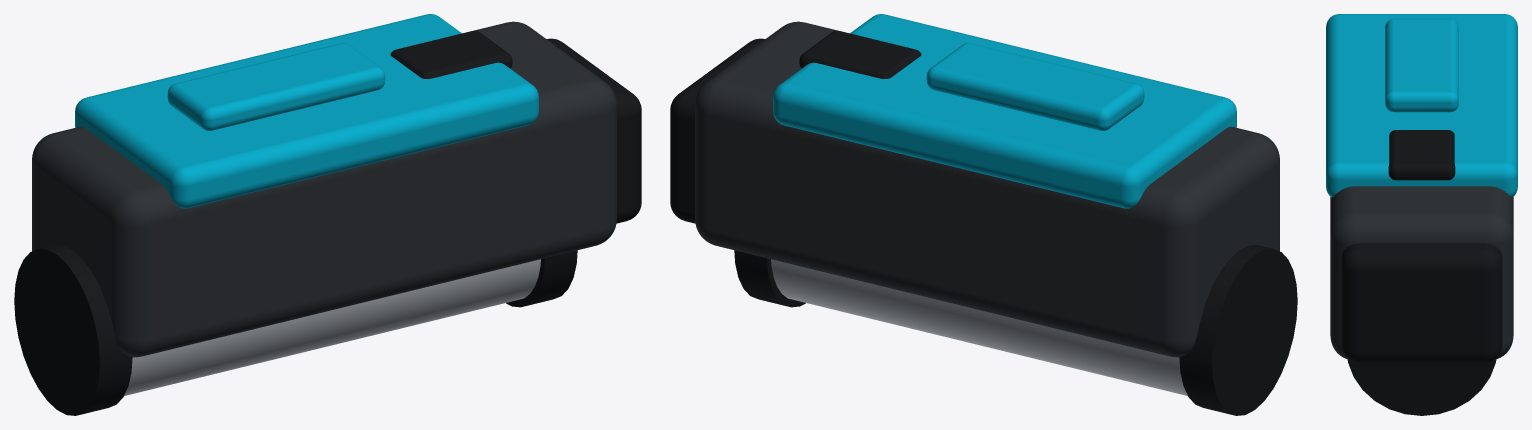
The model's file is toner-cyan.glb.
The picture shows the model from 3 angles, left to right: view 1: azimuth 30°, elevation 25°; view 2: azimuth 150°, elevation 25°; view 3: azimuth 270°, elevation 25°; orthographic projection. The views are drawn at different scales.
Visible parts, largest first — view 1: cyan toner cartridge; view 2: cyan toner cartridge; view 3: cyan toner cartridge.
Part boxes in pixels (<box>): cyan toner cartridge: <box>14,14,641,415</box>; cyan toner cartridge: <box>670,14,1297,415</box>; cyan toner cartridge: <box>1326,14,1517,415</box>.
Bounding box in the file's own units: 2.5 × 1.23 × 0.86.
